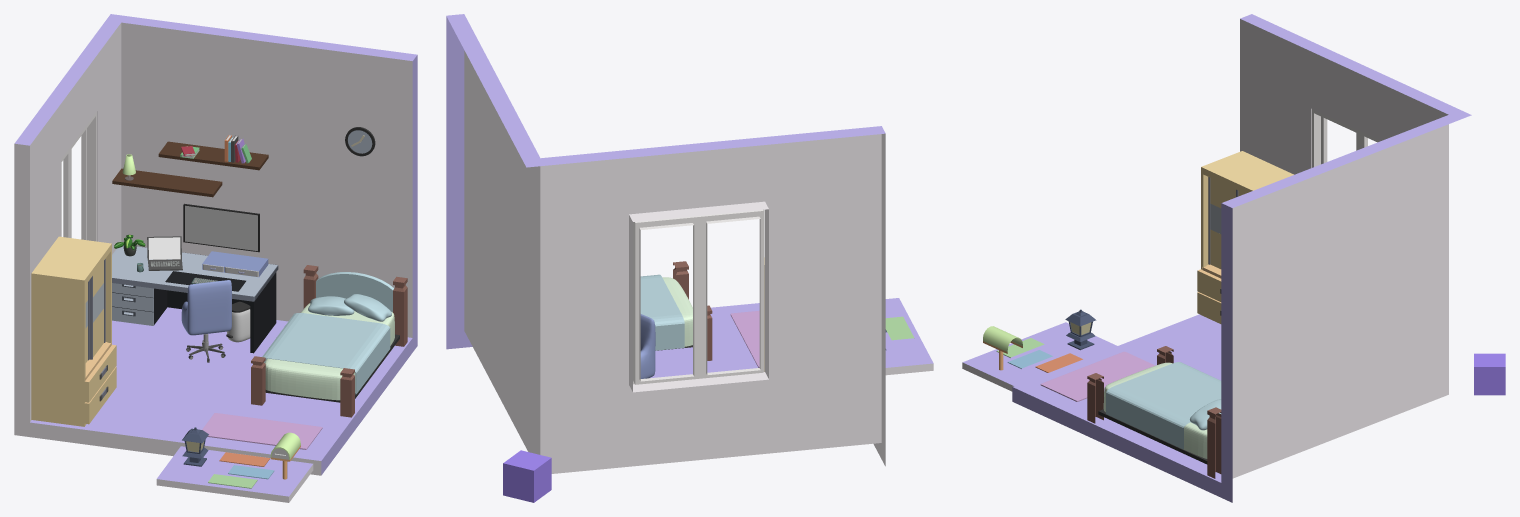
Rendered from room.glb.
3 views of the same model, side by side, from view 1: azimuth 30°, elevation 25°; view 2: azimuth 150°, elevation 25°; view 3: azimuth 270°, elevation 25° (orthographic). The views are drawn at different scales.
Visible parts, largest first — view 1: Body, Furnitures, Desk, MiniFloor, Shelves, Floor Items, TableItems, Monitor, Chair, Lamp, MailBox, Clock (+2 smaller); view 2: Body, Furnitures, Cube, MiniFloor, Chair, Floor Items; view 3: Body, Furnitures, MiniFloor, Floor Items, Cube, Lamp, MailBox.
Boxes of the visible parts, x1,y1,x2,y2 form: Body: (14,14,417,475); Furnitures: (31,236,407,426); Desk: (112,245,278,353); MiniFloor: (156,446,313,502); Shelves: (112,135,268,197); Floor Items: (186,301,322,449); TableItems: (114,234,268,291); Monitor: (183,203,259,252); Chair: (181,280,231,335); Lamp: (182,427,208,466); MailBox: (270,432,300,479); Clock: (345,127,375,156); Body: (446,14,885,473); Furnitures: (640,257,764,371); Cube: (503,450,551,502); MiniFloor: (885,298,933,375); Chair: (640,314,655,378); Floor Items: (730,310,759,367); Body: (1012,14,1471,502); Furnitures: (1087,151,1293,478); MiniFloor: (962,322,1116,391); Floor Items: (1040,351,1154,401); Cube: (1474,353,1505,395); Lamp: (1065,309,1096,350); MailBox: (983,326,1022,370).
Bounding box in the file's own units: 29.26 × 20.71 × 34.58.
